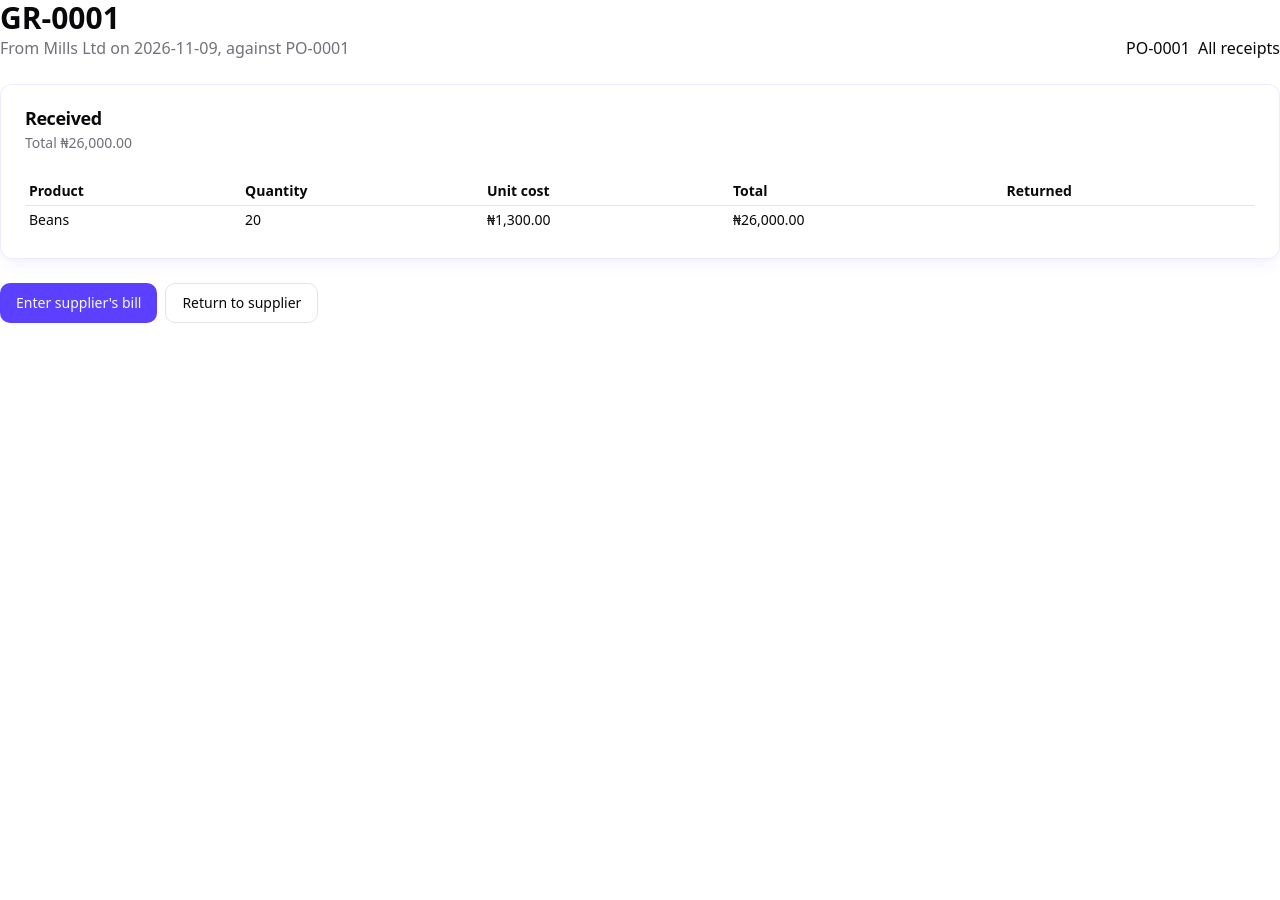
Test case: goods go back to the supplier from a receipt, up to what is left, with a reason
Click the button "Return to supplier" at (242, 303), box x1=165 y1=283 x2=318 y2=323
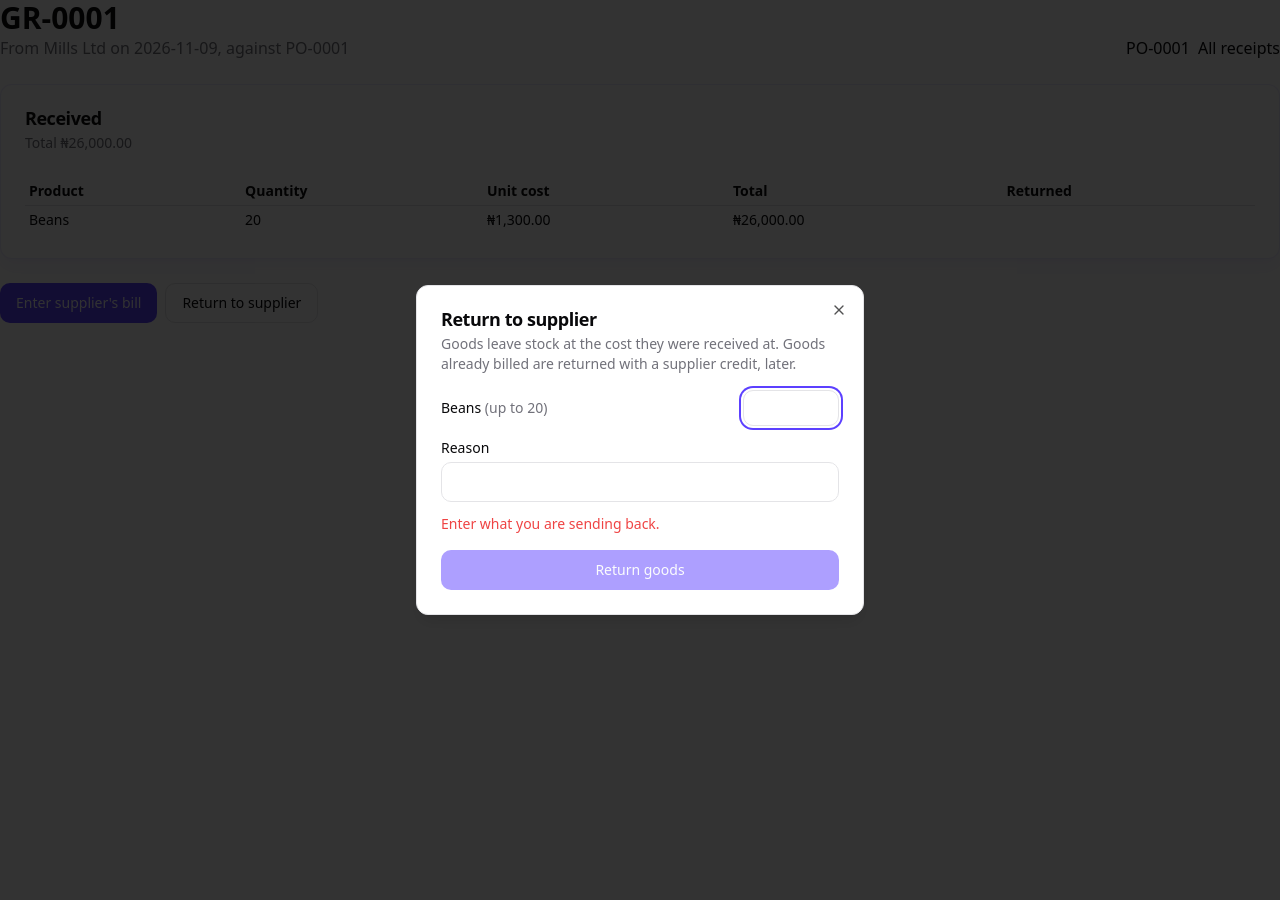
Type "21" into the field named "Quantity of Beans to return" at (791, 408), box x1=743 y1=390 x2=839 y2=426
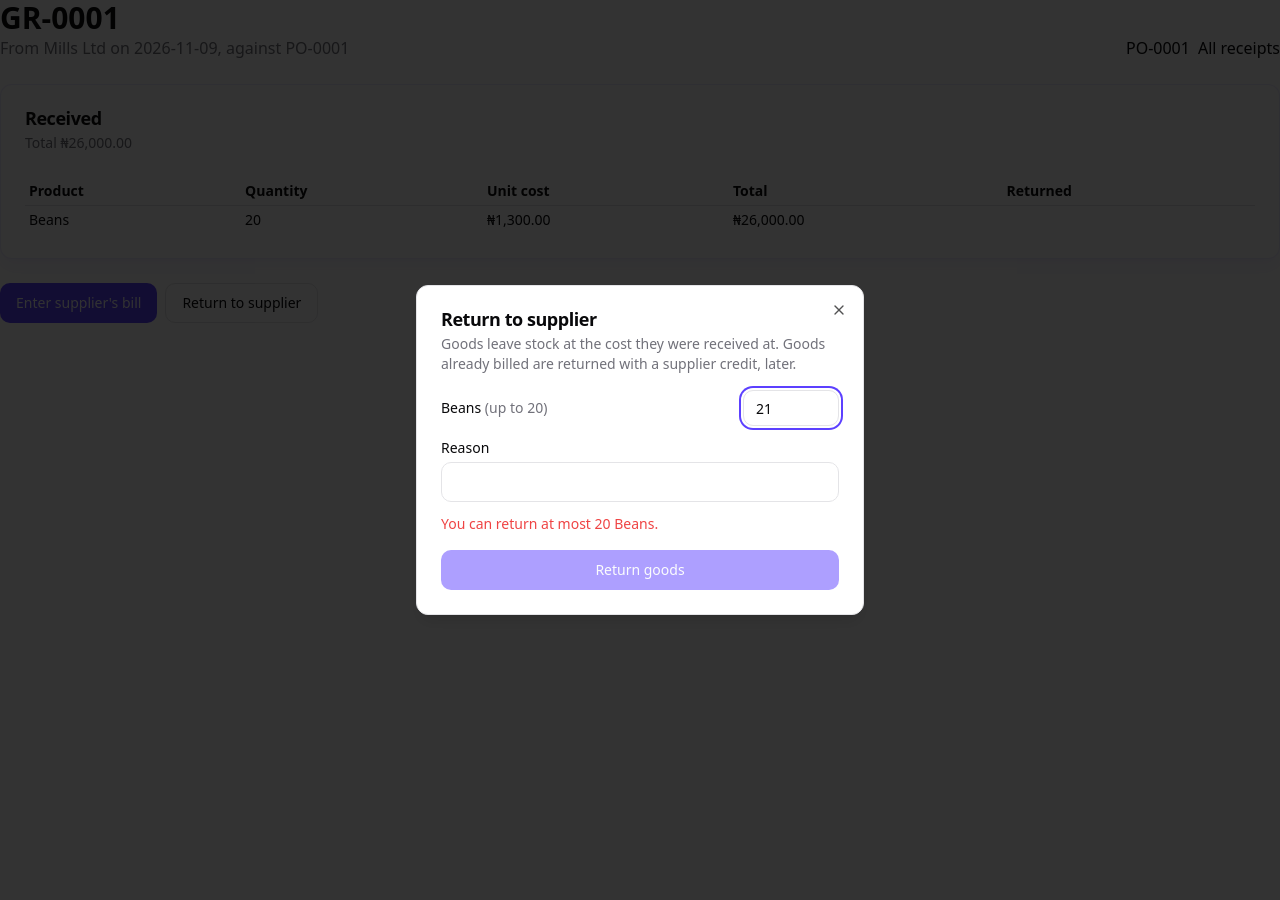
Expected: the message shows "at most 20 Beans", x1=441 y1=514 x2=658 y2=533
Replace the text in the field named "Quantity of Beans to return" with "2" at (791, 408), box x1=743 y1=390 x2=839 y2=426
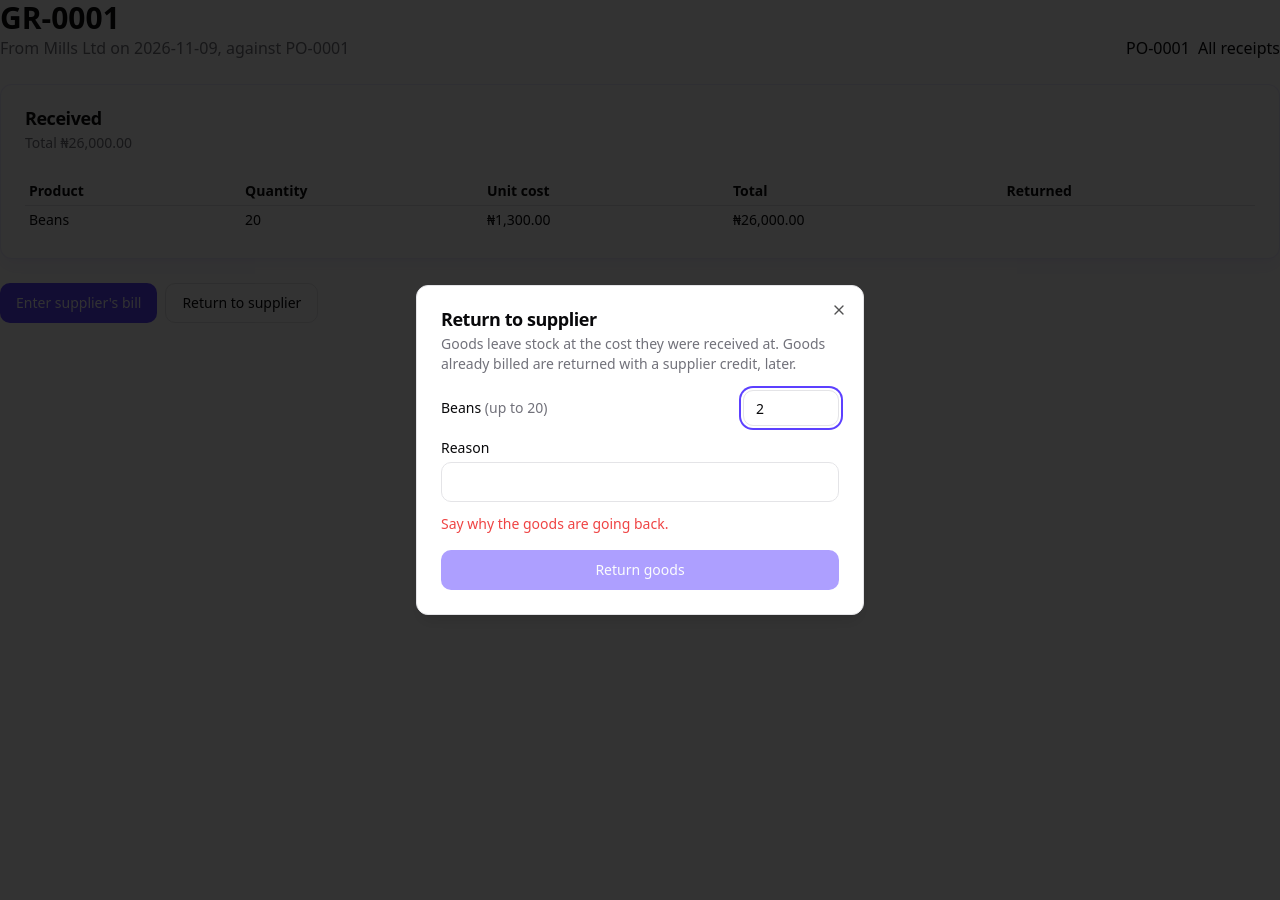
Expected: the message shows "Say why", x1=441 y1=514 x2=668 y2=533
Type "Two tins dented" into the field labelled "Reason" at (640, 482), box x1=441 y1=462 x2=839 y2=502
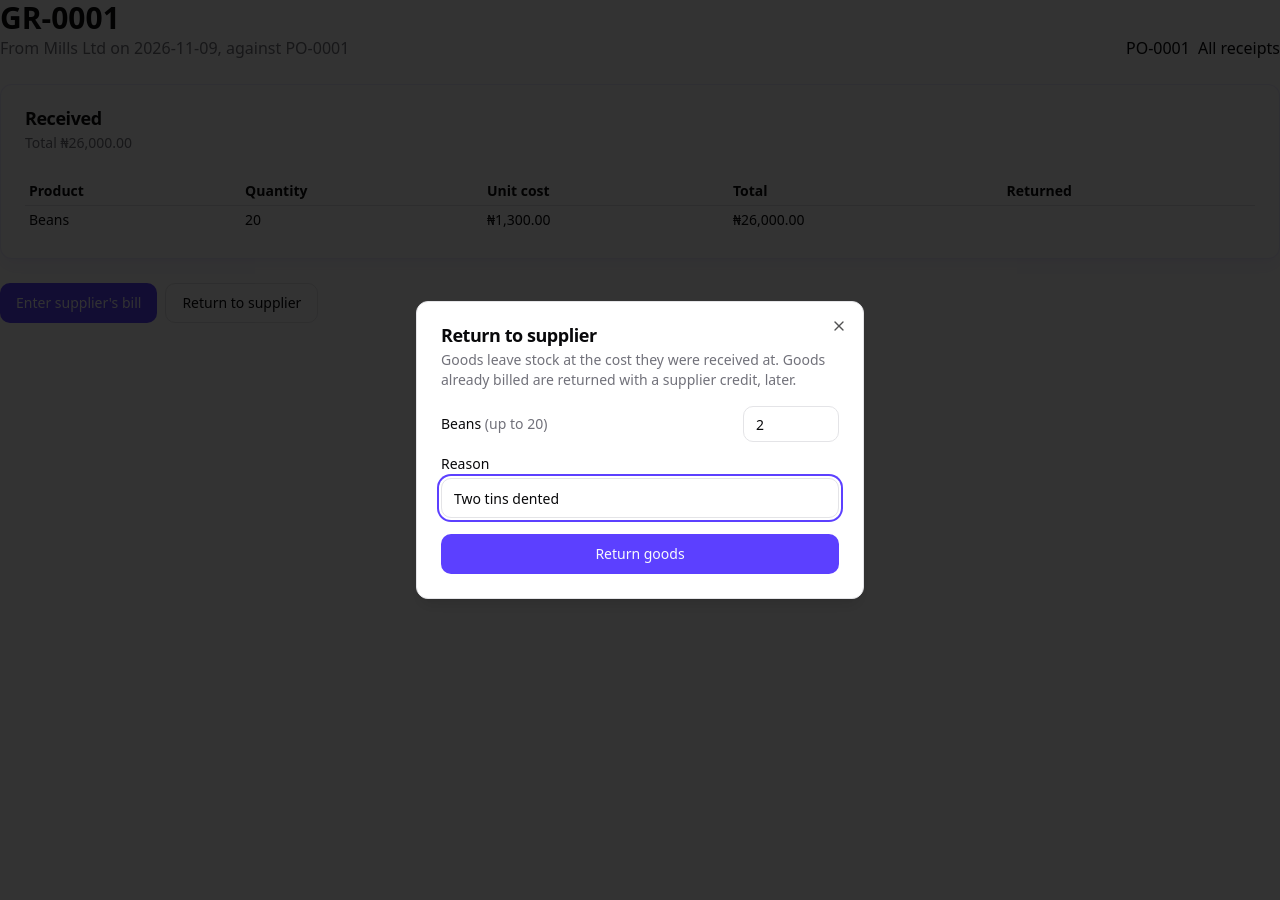
Click the button "Return goods" at (640, 554), box x1=441 y1=534 x2=839 y2=574
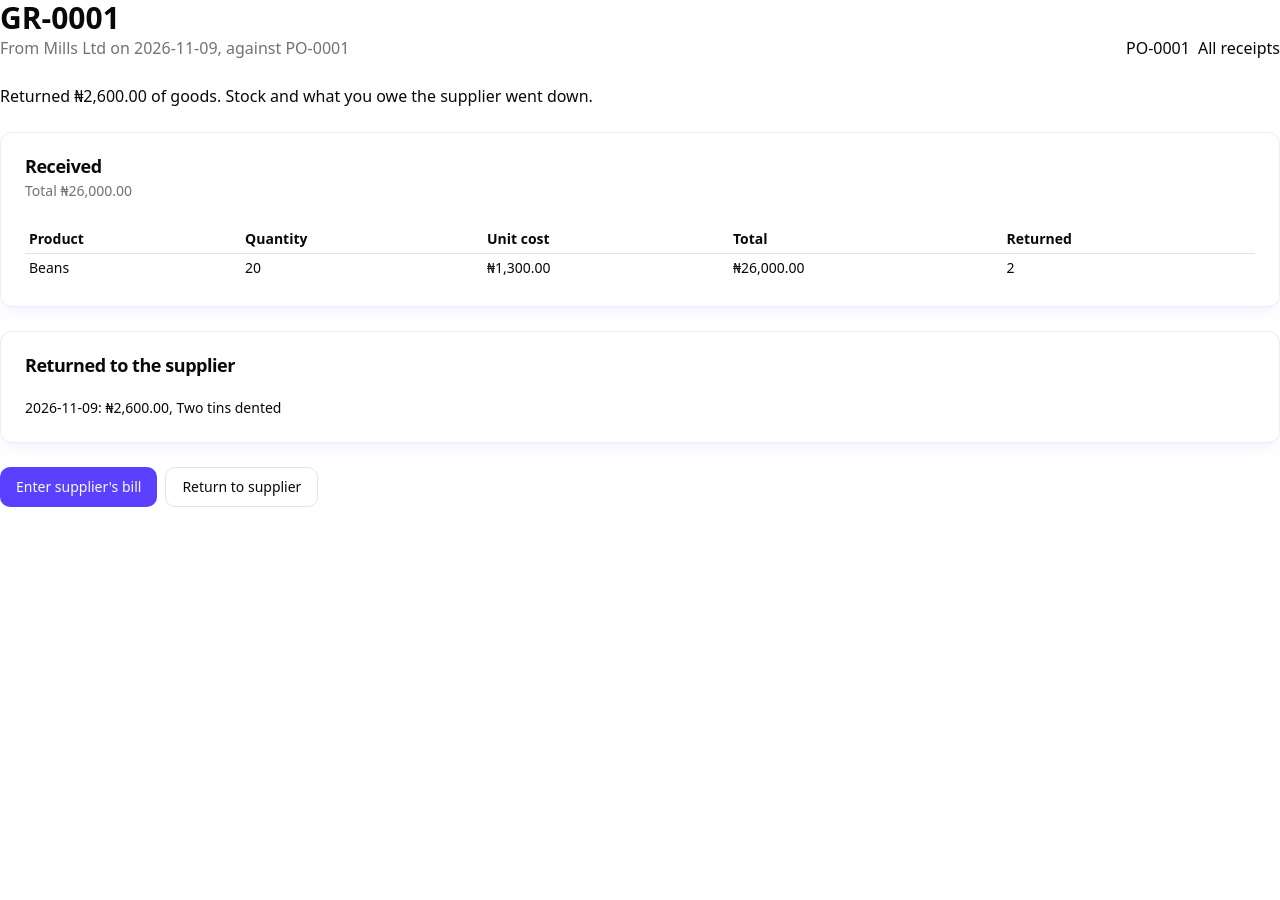
Expected: the text "Returned ₦2,600.00 of goods. Stock and what you owe the supplier went down." is shown, x1=0 y1=85 x2=593 y2=107
Expected: the list item "2026-11-09: ₦2,600.00, Two tins dented" is shown, x1=25 y1=398 x2=282 y2=417
